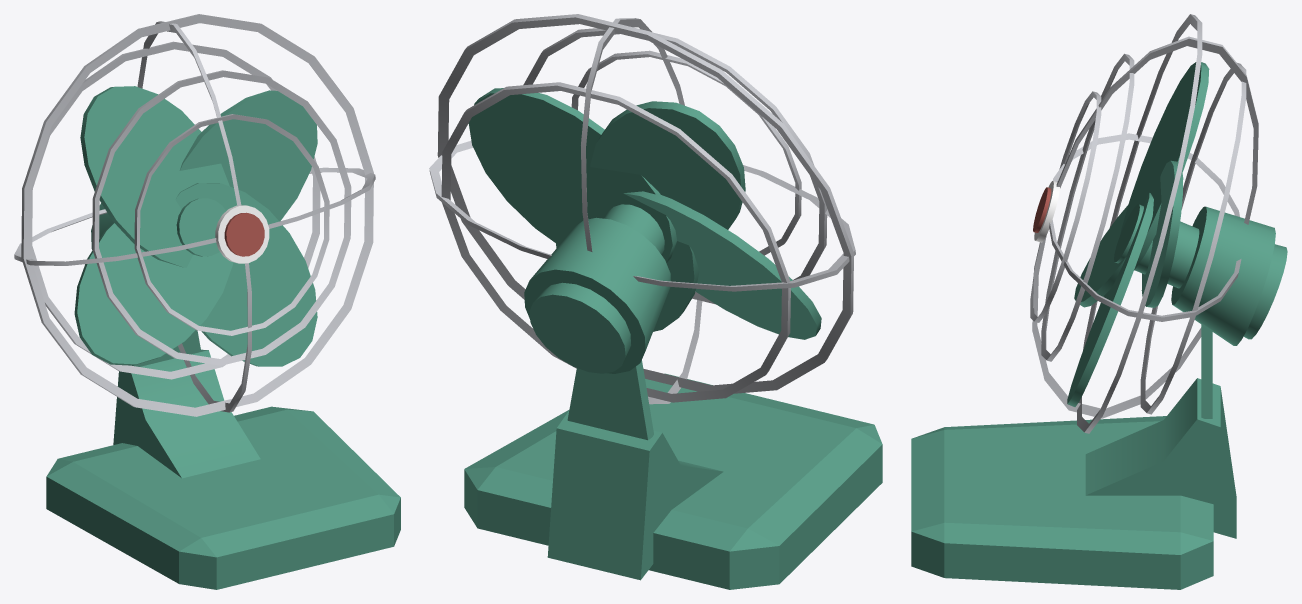
Rendered from fan.fbx.
The picture shows the model from 3 angles, left to right: view 1: azimuth 30°, elevation 25°; view 2: azimuth 150°, elevation 25°; view 3: azimuth 270°, elevation 25°; orthographic projection. The views are drawn at different scales.
Visible parts, largest first — view 1: pCube15, pTorus7, pCylinder6, pCylinder8, pCylinder9, pCube16, pCylinder7, pCylinder3, pCylinder5, pCylinder4, pCube17; view 2: pCube15, pTorus7, pCube16, pasted__pCylinder2, pCylinder7, pCylinder6, pCylinder8, pCube17, pCylinder9, pCylinder3; view 3: pCube15, pTorus7, pCube16, pasted__pCylinder2, pCylinder6, pCylinder9, pCylinder7, pCylinder3, pCylinder8, pCube17, pCylinder4.
Part boxes in pixels (<box>): pCube15: <box>46,406,400,589</box>; pTorus7: <box>14,14,375,416</box>; pCylinder6: <box>80,86,229,267</box>; pCylinder8: <box>74,222,233,365</box>; pCylinder9: <box>175,183,317,366</box>; pCube16: <box>113,349,260,478</box>; pCylinder7: <box>179,90,317,221</box>; pCylinder3: <box>176,198,225,256</box>; pCylinder5: <box>224,212,264,256</box>; pCylinder4: <box>215,205,269,263</box>; pCube17: <box>132,330,200,366</box>; pCube15: <box>464,373,882,589</box>; pTorus7: <box>429,14,855,404</box>; pCube16: <box>547,410,723,580</box>; pasted__pCylinder2: <box>524,217,670,373</box>; pCylinder7: <box>468,88,676,263</box>; pCylinder6: <box>590,101,745,229</box>; pCylinder8: <box>623,191,821,339</box>; pCube17: <box>567,360,653,440</box>; pCylinder9: <box>556,241,699,331</box>; pCylinder3: <box>603,204,664,254</box>; pCube15: <box>911,416,1213,589</box>; pTorus7: <box>1030,14,1258,433</box>; pCube16: <box>1085,378,1236,538</box>; pasted__pCylinder2: <box>1171,206,1287,345</box>; pCylinder6: <box>1120,62,1209,270</box>; pCylinder9: <box>1067,193,1153,406</box>; pCylinder7: <box>1141,160,1183,307</box>; pCylinder3: <box>1114,204,1199,288</box>; pCylinder8: <box>1074,205,1128,307</box>; pCube17: <box>1201,323,1212,418</box>; pCylinder4: <box>1034,181,1059,242</box>.
Bounding box in the file's own units: 4.45 × 5.55 × 3.85.
